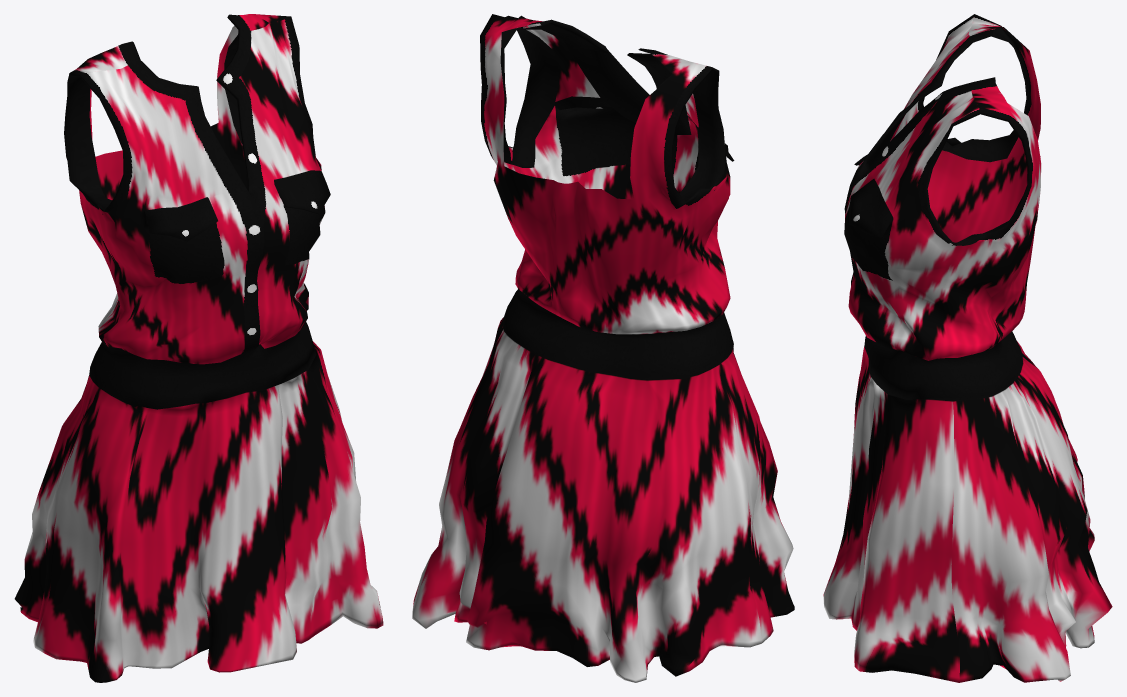
Rendered from clothes_no_back.gltf.
3 views of the same model, side by side, from view 1: azimuth 30°, elevation 25°; view 2: azimuth 150°, elevation 25°; view 3: azimuth 270°, elevation 25° (orthographic). The views are drawn at different scales.
Parts seen in each view (by area): view 1: Dress_Cut_Out; view 2: Dress_Cut_Out; view 3: Dress_Cut_Out.
Boxes of the visible parts, x1,y1,x2,y2 form: Dress_Cut_Out: (14, 14, 383, 682); Dress_Cut_Out: (412, 14, 794, 682); Dress_Cut_Out: (823, 14, 1112, 682).
Size of the model in its own units: 95.23 by 169 by 78.59.
Materials: 1 (1 with a texture image).
